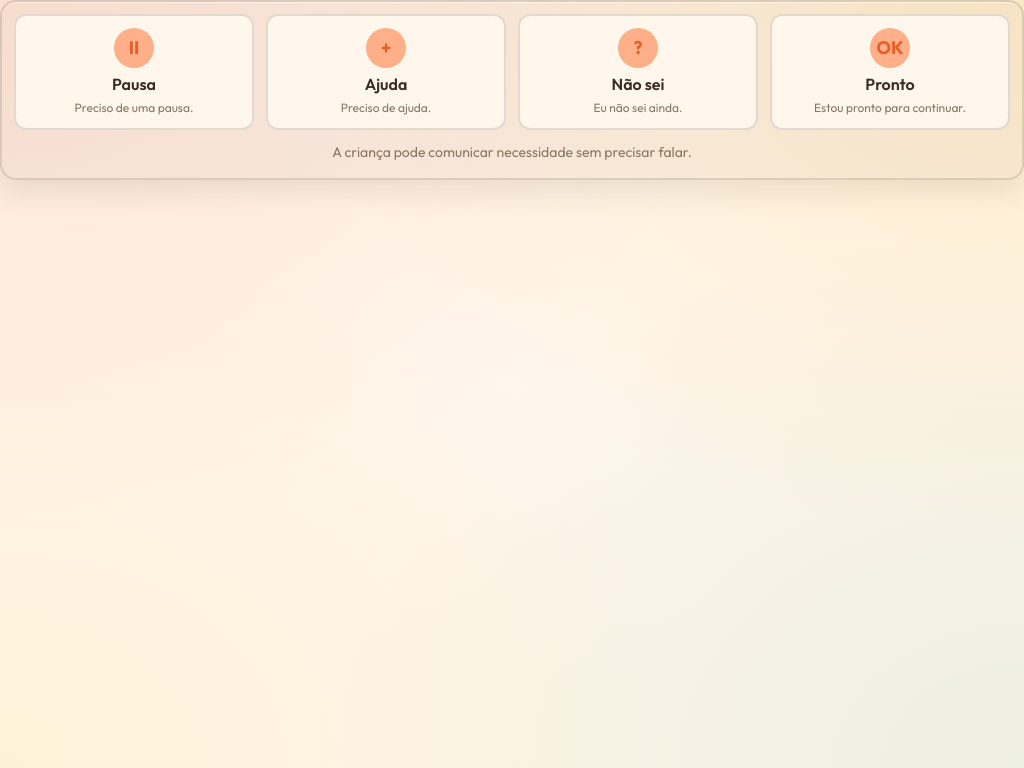
it: PainelComunicacao › aciona pausa quando a criança pede pausa
Click the button named "Pausa. Preciso de uma pausa.".
click(134, 72)  # box [14,14,254,130]
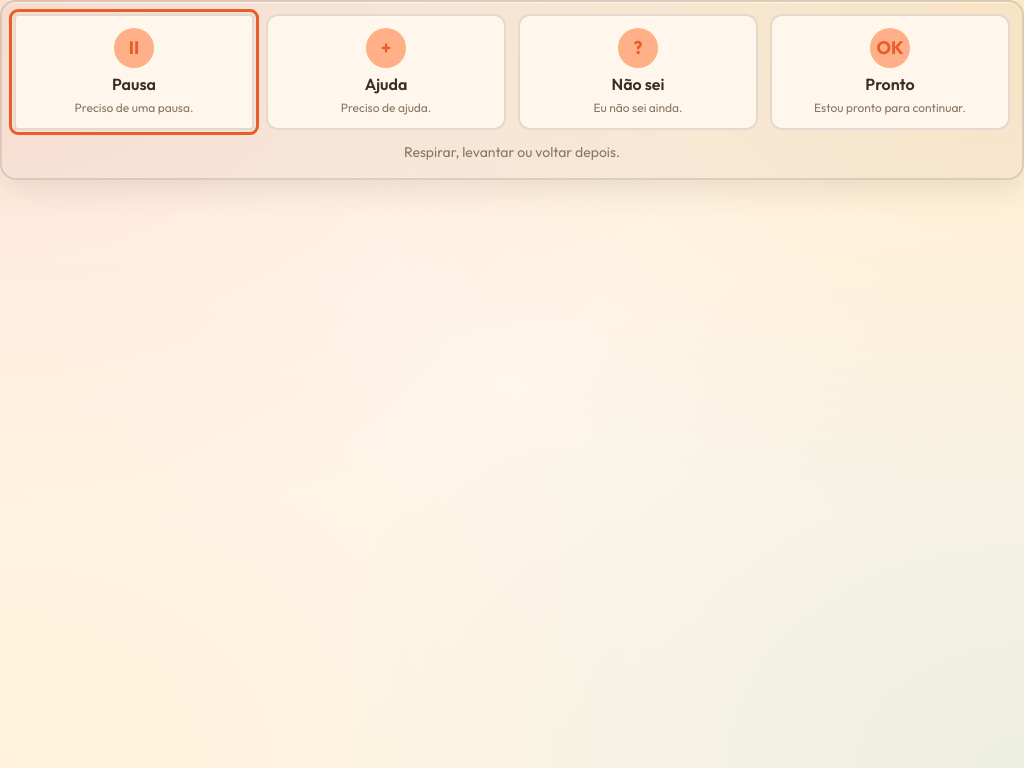
Result: the text "Respirar, levantar ou voltar depois." is shown at [404,143,620,161]
